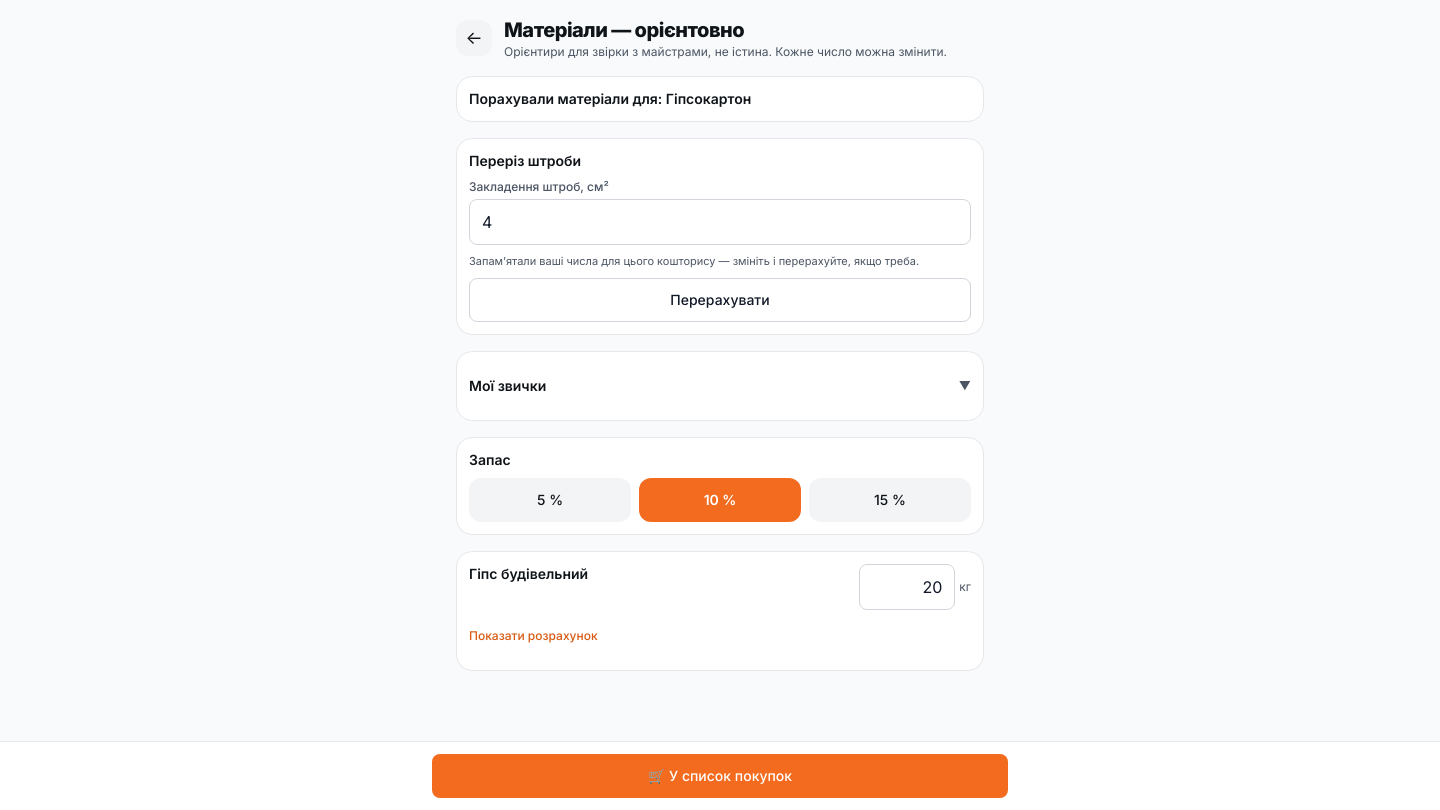
MaterialCalculatorPage › writes a chase section as its own factor on the arithmetic line
The width and height of the screenshot is (1440, 810).
Click the button "Показати розрахунок" at (533, 636), box [469,614,598,658]
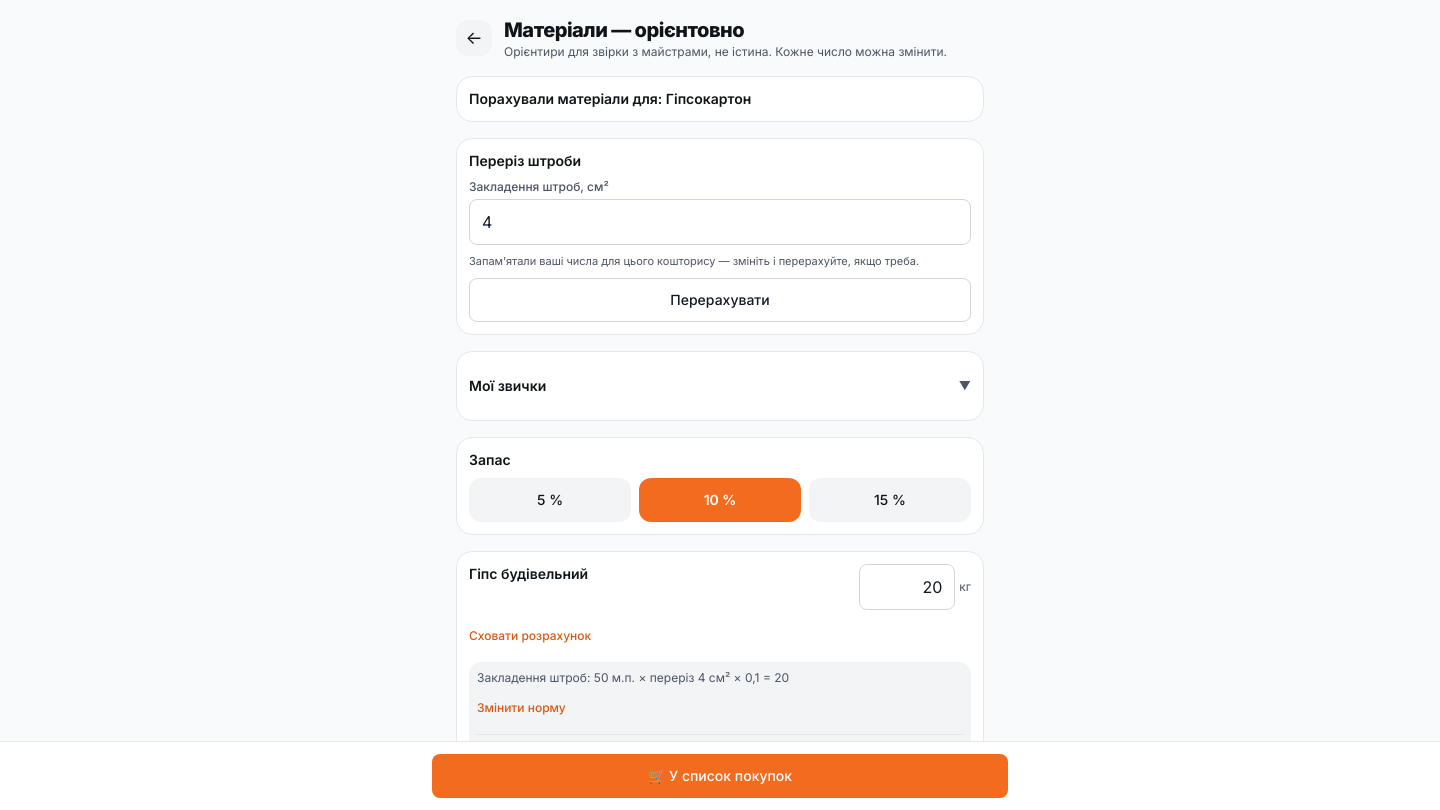
Expected: the text "Закладення штроб: 50 м.п. × переріз 4 см² × 0,1 = 20" is shown, [477,670,789,684]
